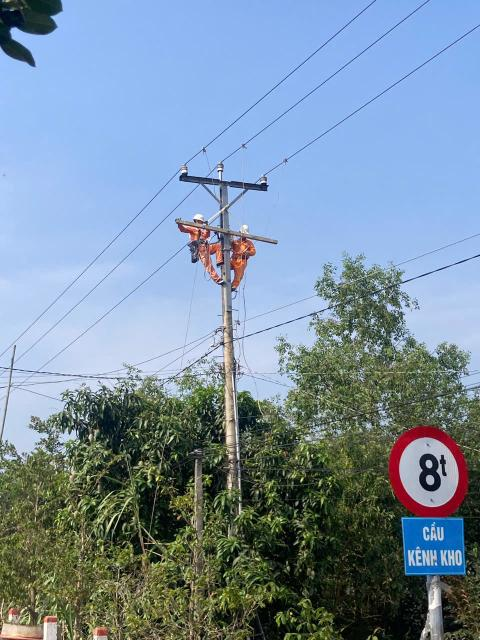gloves: (174, 217, 184, 226), (203, 218, 210, 229), (242, 250, 250, 256)
harness: (190, 236, 216, 248), (229, 252, 248, 261)
helmet: (192, 212, 206, 224), (238, 222, 250, 235)
shoes: (214, 276, 226, 286), (215, 261, 229, 269), (230, 283, 237, 291)
